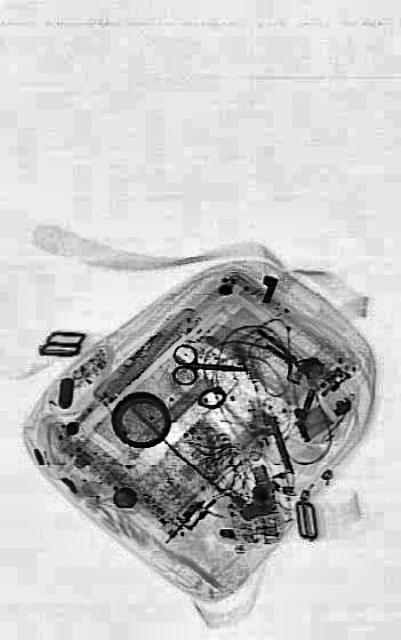Scissors: (170, 342, 246, 391)
